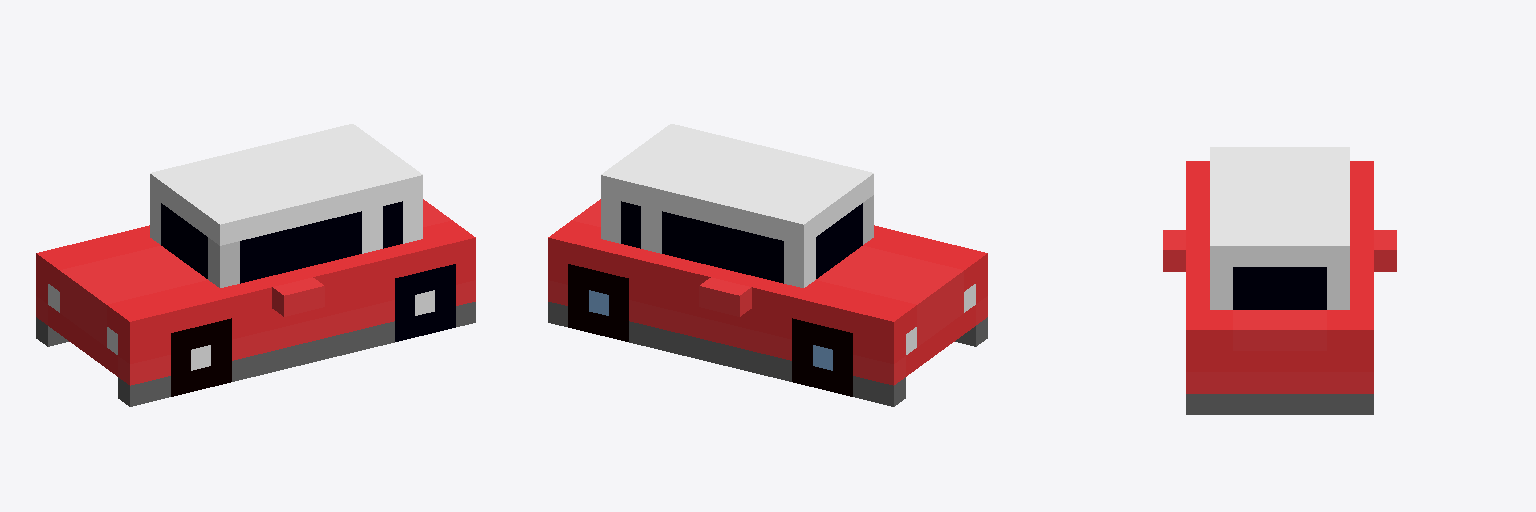
3 renders of one model, left to right at view 1: azimuth 30°, elevation 25°; view 2: azimuth 150°, elevation 25°; view 3: azimuth 270°, elevation 25°, orthographic.
Parts seen in each view (by area): view 1: object 1; view 2: object 1; view 3: object 1.
Boxes of the visible parts, x1=… form: object 1: x1=36, y1=124, x2=475, y2=406; object 1: x1=548, y1=124, x2=987, y2=406; object 1: x1=1163, y1=147, x2=1396, y2=414.
Size of the model in its own units: 1.7 by 0.7 by 1.
1 materials, 1 textured.